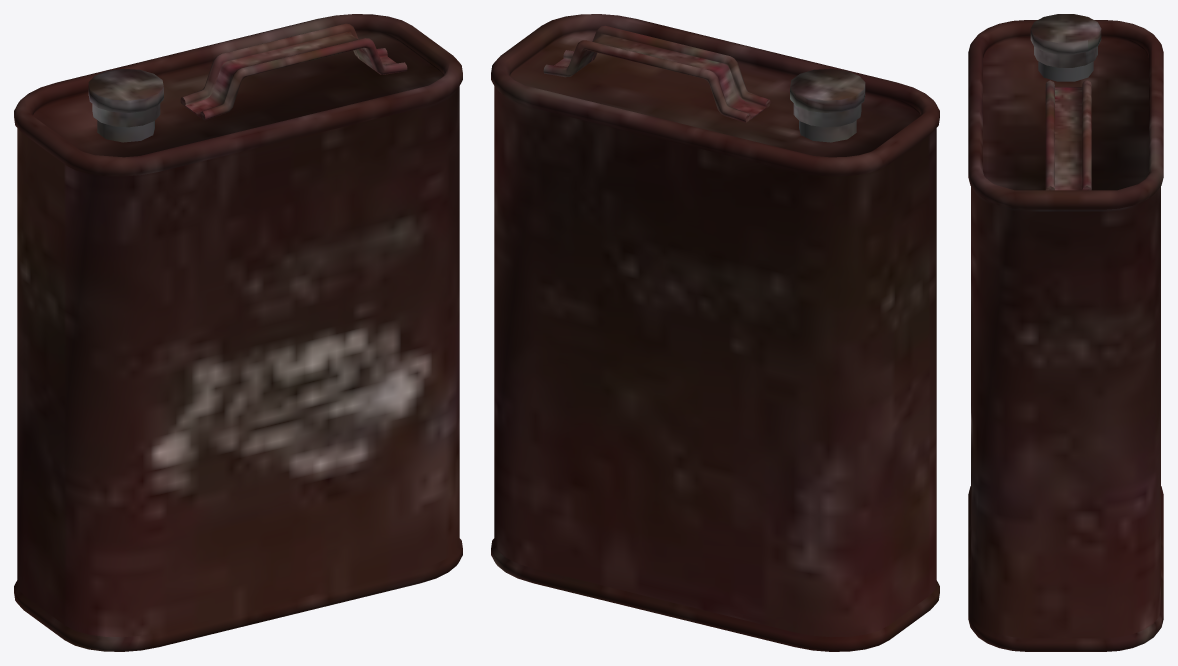
The model's file is jerry-can--1.gltf.
The picture shows the model from 3 angles, left to right: view 1: azimuth 30°, elevation 25°; view 2: azimuth 150°, elevation 25°; view 3: azimuth 270°, elevation 25°; orthographic projection. The views are drawn at different scales.
Parts seen in each view (by area): view 1: oil.can, handle, cap, cap.rim; view 2: oil.can, handle, cap, cap.rim; view 3: oil.can, handle, cap, cap.rim.
Boxes of the visible parts, x1,y1,x2,y2 form: oil.can: [14, 14, 462, 651]; handle: [180, 23, 407, 120]; cap: [88, 68, 163, 127]; cap.rim: [97, 120, 154, 142]; oil.can: [491, 14, 939, 651]; handle: [543, 25, 770, 122]; cap: [790, 68, 865, 127]; cap.rim: [799, 120, 856, 142]; oil.can: [968, 20, 1163, 651]; handle: [1045, 80, 1091, 190]; cap: [1030, 14, 1101, 67]; cap.rim: [1038, 61, 1093, 81].
Bounding box in the file's own units: 0.355 × 0.45 × 0.164.
Materials: 4 (4 with a texture image).
